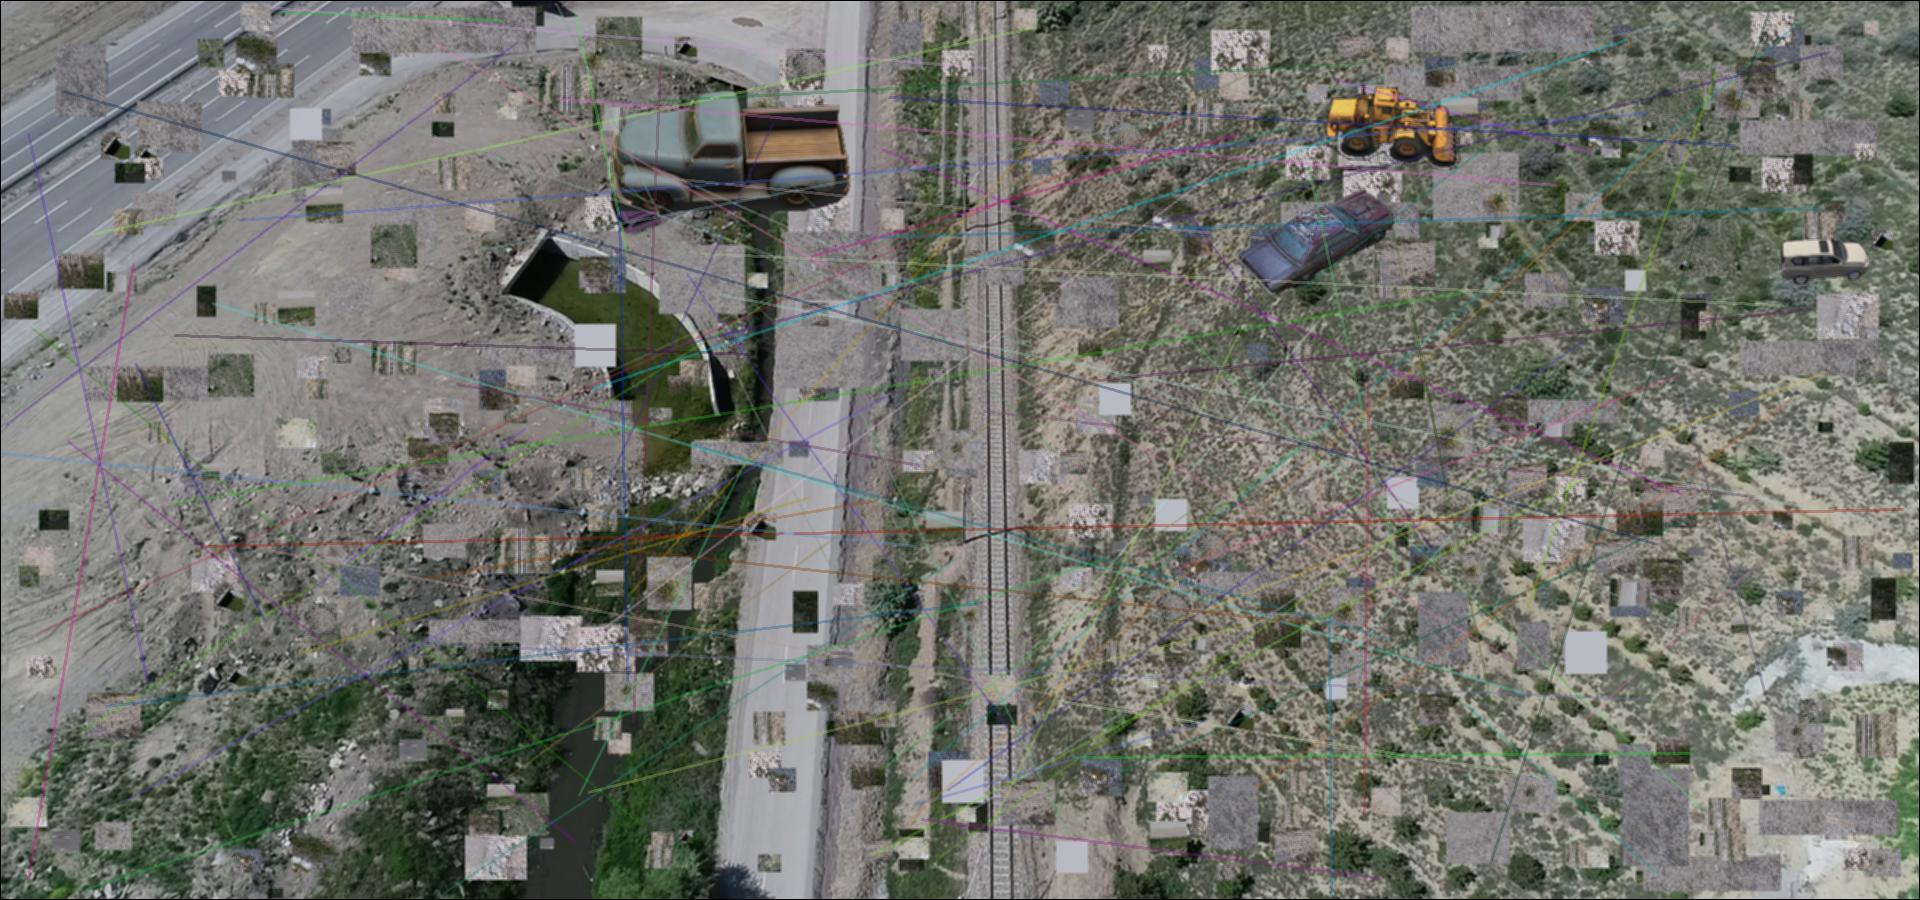arac: (610, 91, 850, 211), (1236, 187, 1393, 294), (1321, 81, 1461, 170), (609, 144, 740, 236), (1777, 238, 1873, 285)
